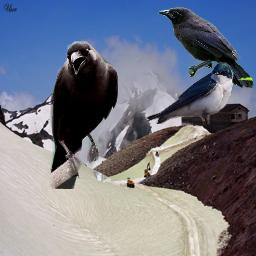Crow: (49, 41, 118, 189), (158, 7, 254, 88)
Swallow: (145, 62, 234, 124)
